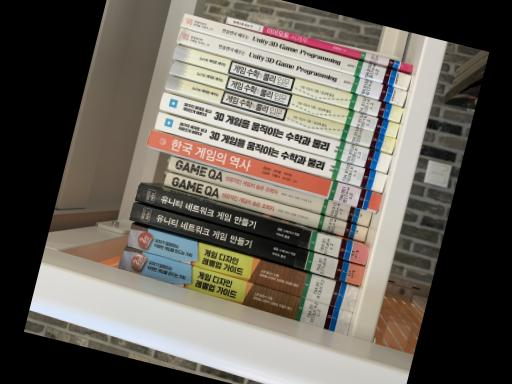book-spine: (117, 245, 353, 335), (126, 223, 359, 312), (146, 128, 382, 213), (129, 201, 364, 285), (134, 182, 369, 265), (158, 92, 392, 173), (154, 111, 387, 192), (172, 43, 404, 122), (165, 74, 396, 153), (177, 27, 407, 106), (169, 59, 399, 137), (179, 13, 411, 90), (166, 154, 372, 226), (163, 171, 368, 242), (226, 16, 413, 71)
